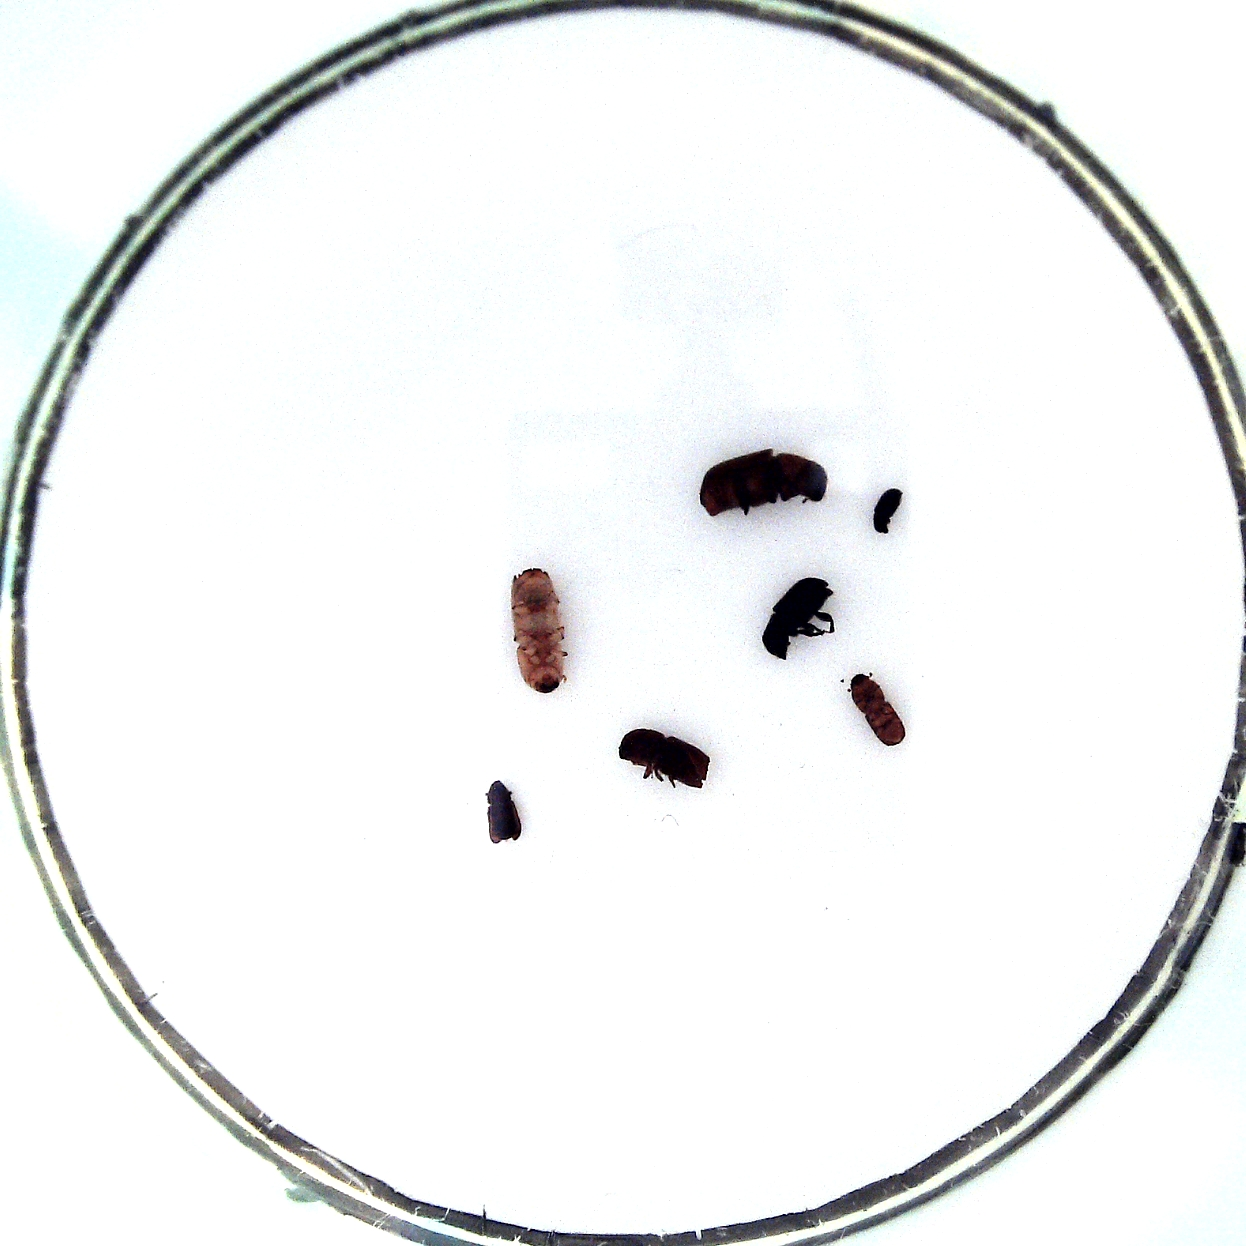Boerner: (511, 567, 566, 693)
Leconte: (698, 450, 827, 515)
acuminatus: (873, 486, 904, 535)
armandi: (761, 577, 833, 660)
coleoptera: (851, 673, 906, 746), (485, 780, 521, 842)
linnaeus: (618, 728, 711, 788)
